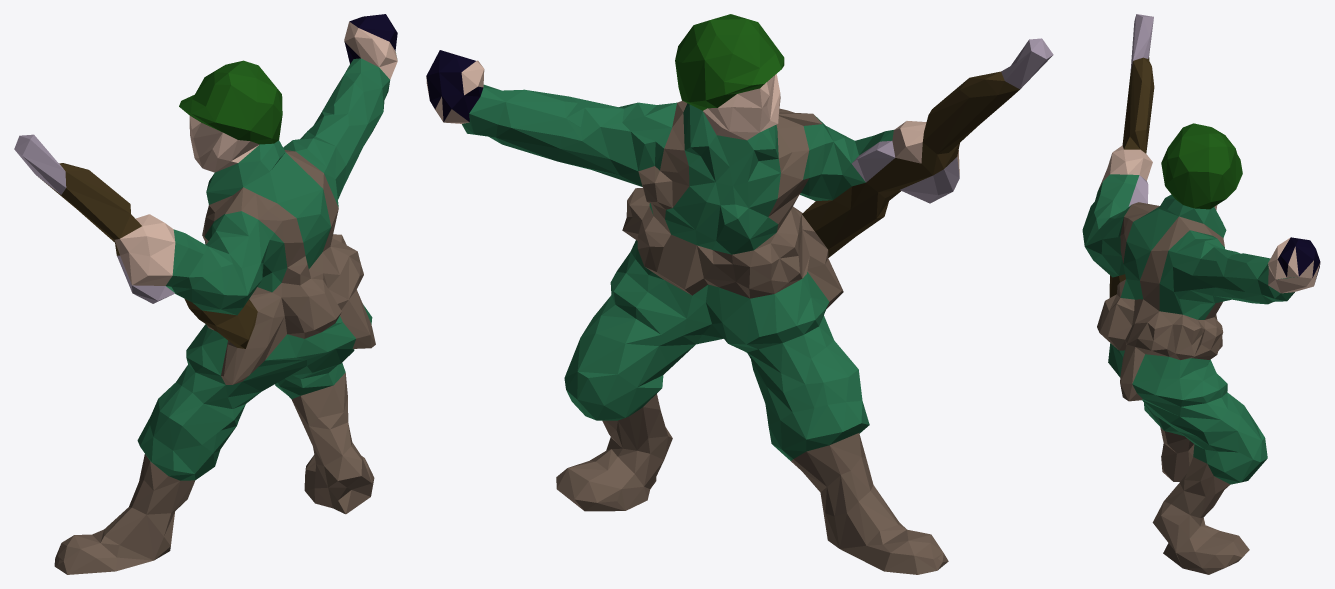
Rendered from airborn_2_low_poly_colored.glb.
3 renders of one model, left to right at view 1: azimuth 30°, elevation 25°; view 2: azimuth 150°, elevation 25°; view 3: azimuth 270°, elevation 25°, orthographic. The views are drawn at different scales.
Parts seen in each view (by area): view 1: Airborn_Elite_2; view 2: Airborn_Elite_2; view 3: Airborn_Elite_2.
Boxes of the visible parts, x1,y1,x2,y2 form: Airborn_Elite_2: (14,14,397,574); Airborn_Elite_2: (426,14,1053,574); Airborn_Elite_2: (1082,14,1320,574).
Size of the model in its own units: 1.81 by 1.73 by 0.9283.
